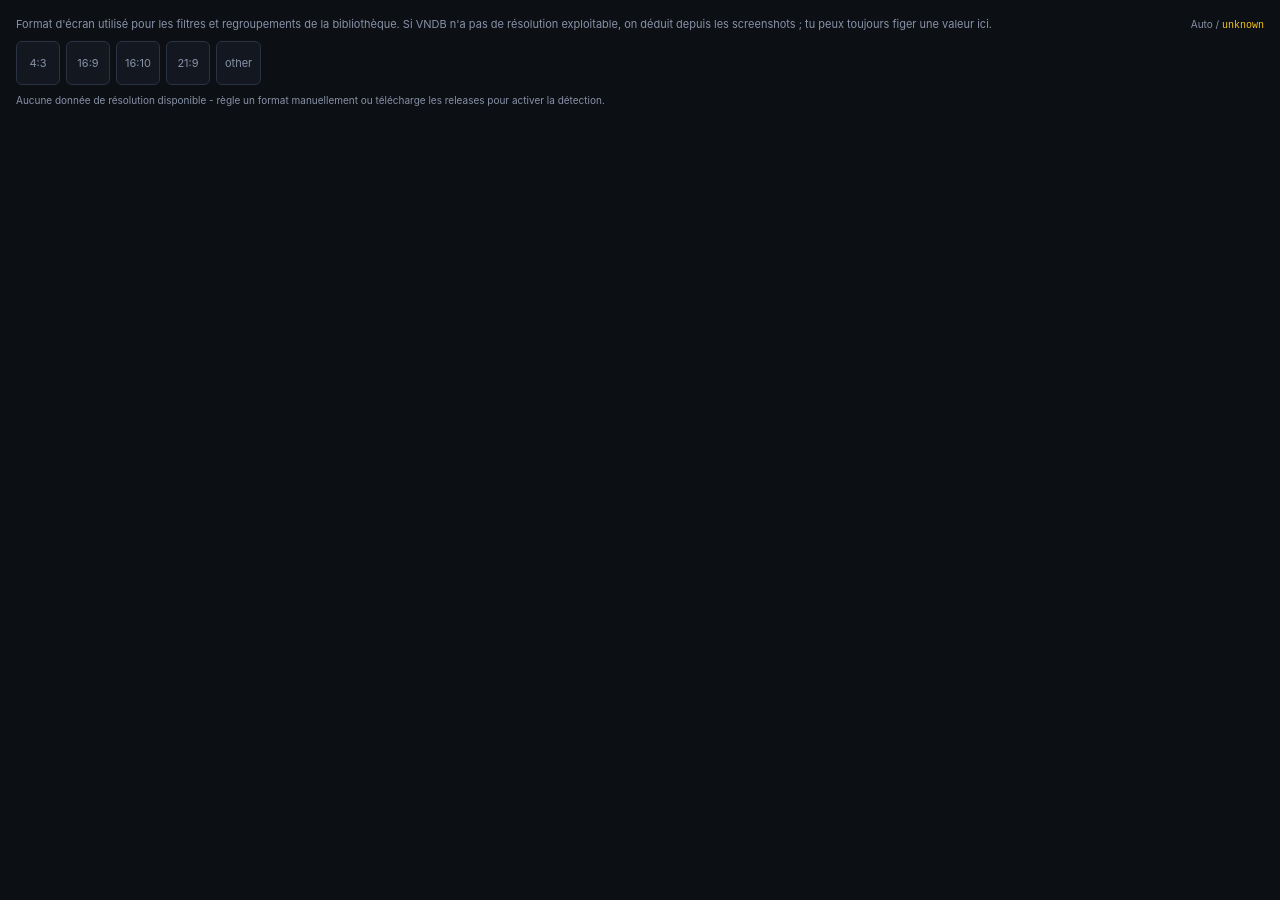
Test case: AspectOverrideControl › toasts the error message when a save fails
This screenshot has width=1280, height=900.
Click the button "other". click: [239, 63]
box: [216,41,261,85]
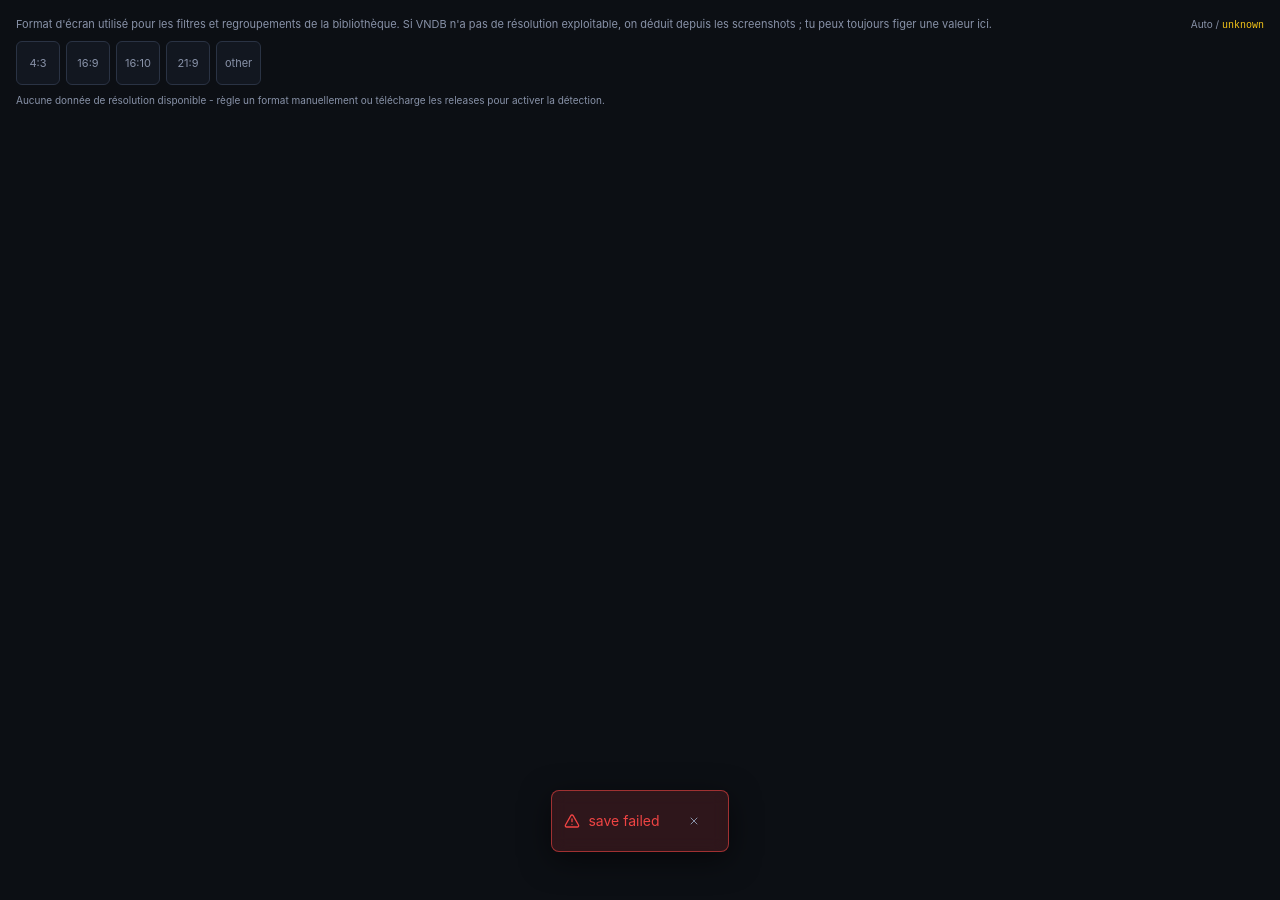
expect the text "save failed" is shown: met, box [588,811,660,831]
